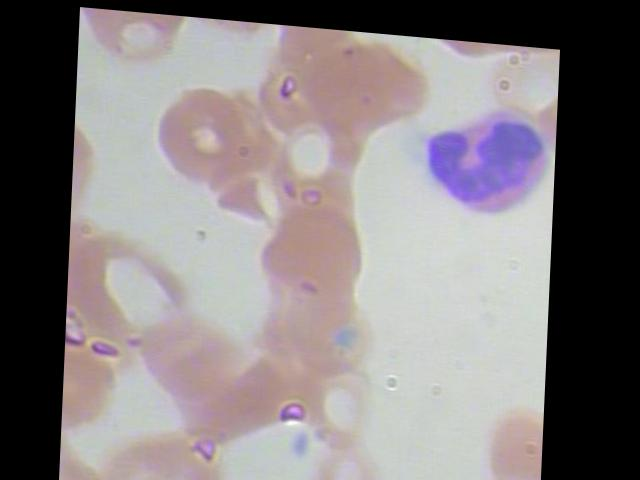Red Blood Cells: (143, 70, 254, 188), (309, 23, 433, 126), (258, 194, 366, 303), (140, 298, 248, 407), (295, 354, 382, 448), (79, 6, 188, 64), (479, 394, 547, 479), (292, 436, 400, 479), (181, 13, 287, 55), (408, 29, 511, 56), (194, 471, 302, 479)
White Blood Cells: (417, 87, 549, 231)
